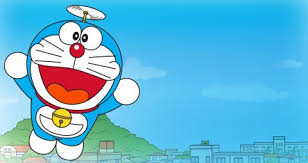doraemon: (4, 20, 140, 161)
